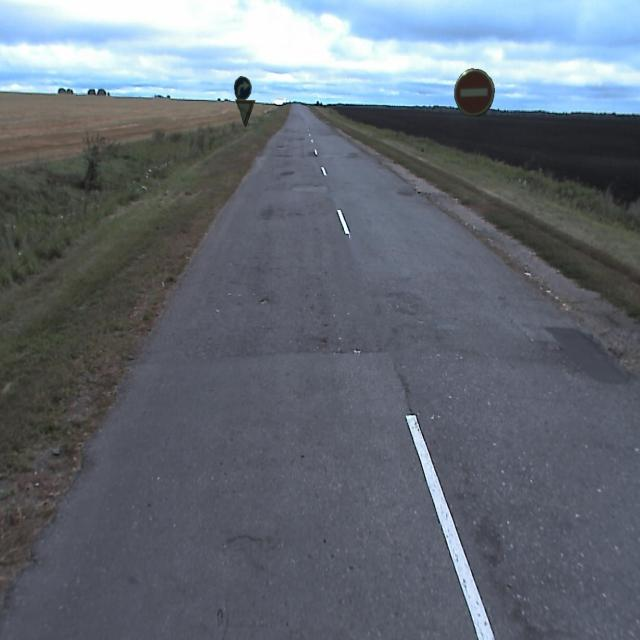road: (0, 103, 639, 639)
